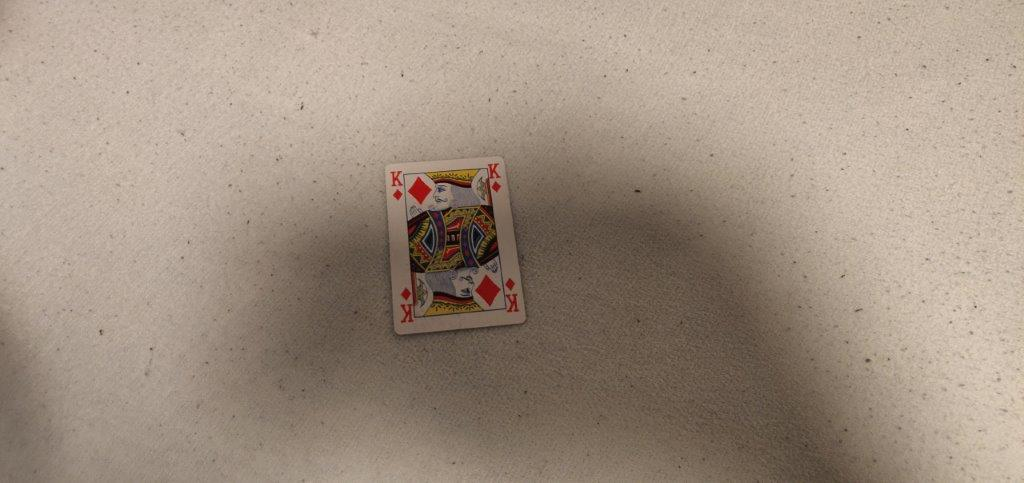KD: (485, 159, 507, 195), (388, 168, 408, 203)
